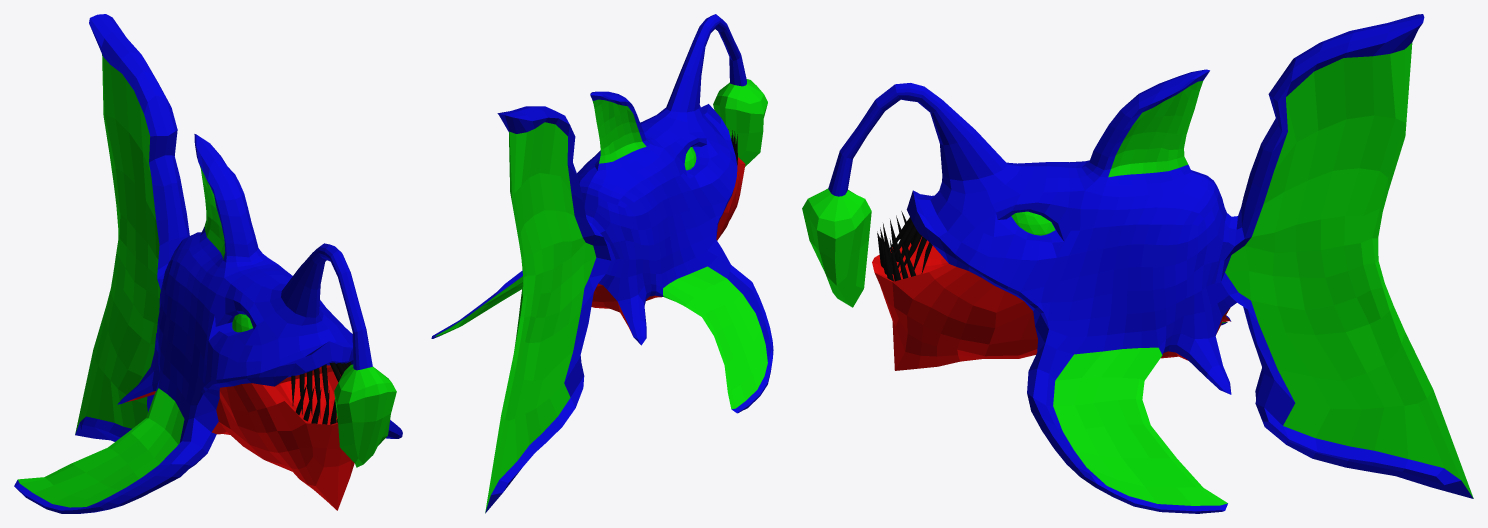
File: Anglerfish2.fbx
3 views of the same model, side by side, from view 1: azimuth 30°, elevation 25°; view 2: azimuth 150°, elevation 25°; view 3: azimuth 270°, elevation 25° (orthographic). The views are drawn at different scales.
Visible parts, largest first — view 1: Cube.001; view 2: Cube.001; view 3: Cube.001.
Boxes of the visible parts, bbox=[...] form: Cube.001: bbox=[14, 14, 402, 513]; Cube.001: bbox=[431, 14, 773, 513]; Cube.001: bbox=[802, 14, 1473, 513].
Bounding box in the file's own units: 5.25 × 6.26 × 7.91.
